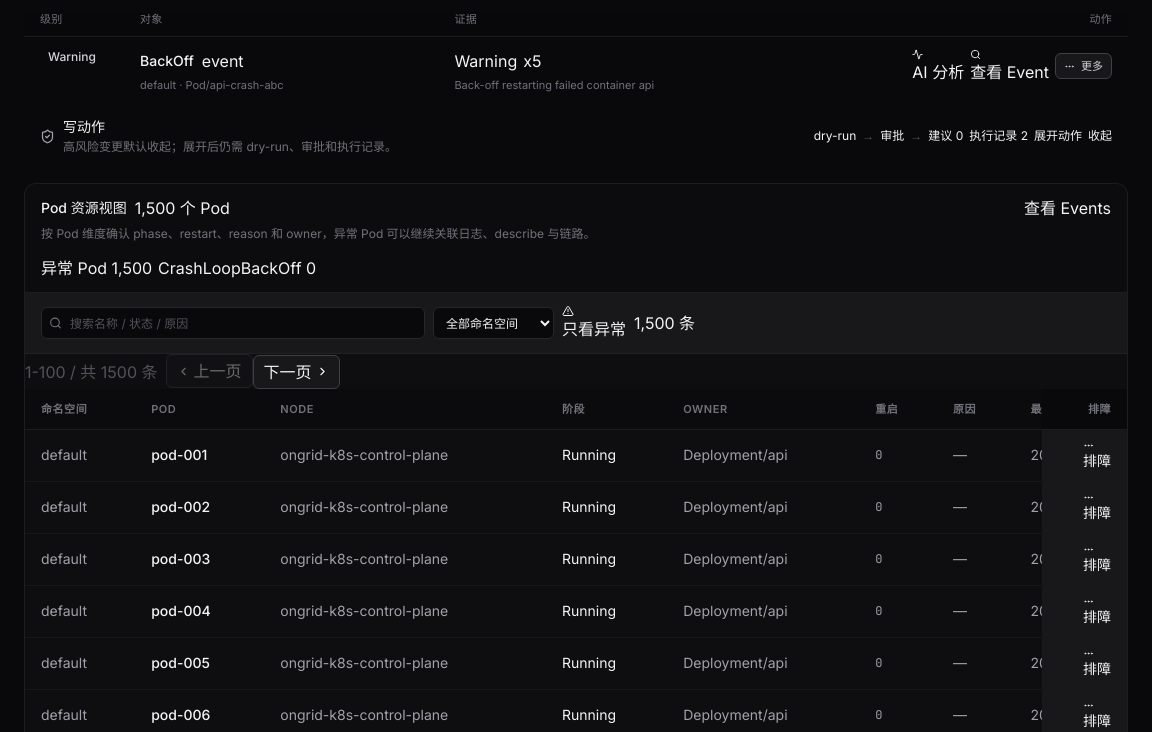
Test: KubernetesPage › Pod 资源表使用 offset 分页访问 1500 条结果
The width and height of the screenshot is (1152, 732).
(page scrolled)
Expected: the text "pod-001" is shown, [135,429,264,481]
Expected: the text "pod-101" is not shown
Click the button "下一页" at (296, 372), box [252,354,340,388]
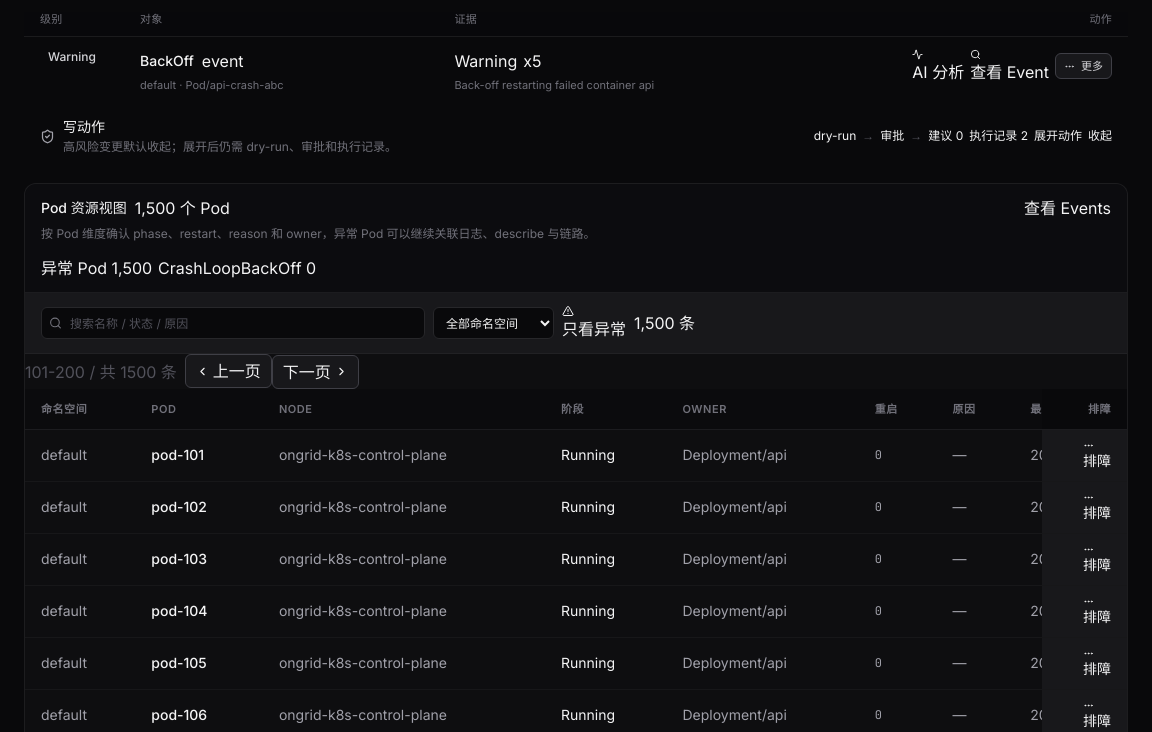
Result: the text "pod-101" is shown at [135,429,263,481]
Result: the text "pod-001" is gone
Result: the button "上一页" is enabled at [185,354,272,388]
